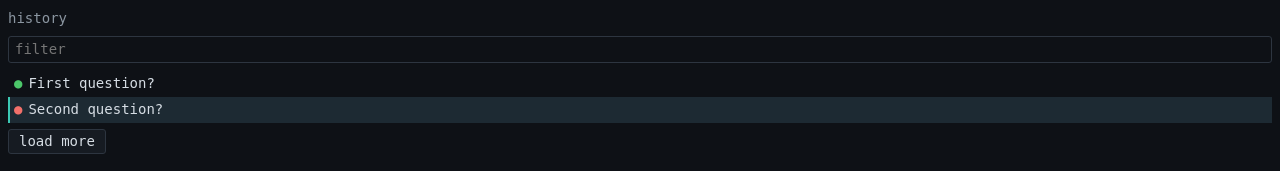
it: HistoryPane › lists runs with a status dot and word, highlights the selected one, and loads more
Click the button "load more": {"x": 57, "y": 142} 8,129 -> 106,154
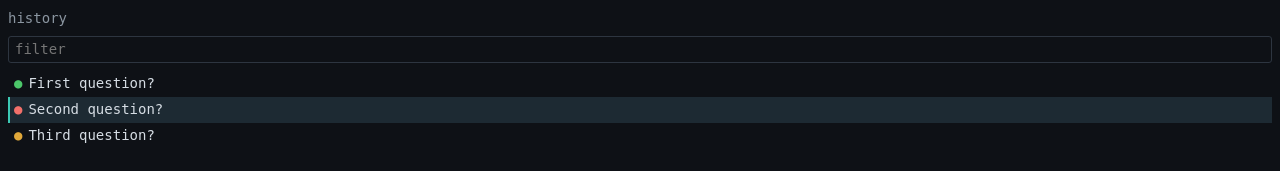
expect the number of links is 3: met, box 14,75 -> 155,91; 8,97 -> 1272,123; 14,127 -> 155,143
expect the button "load more" is gone: met
